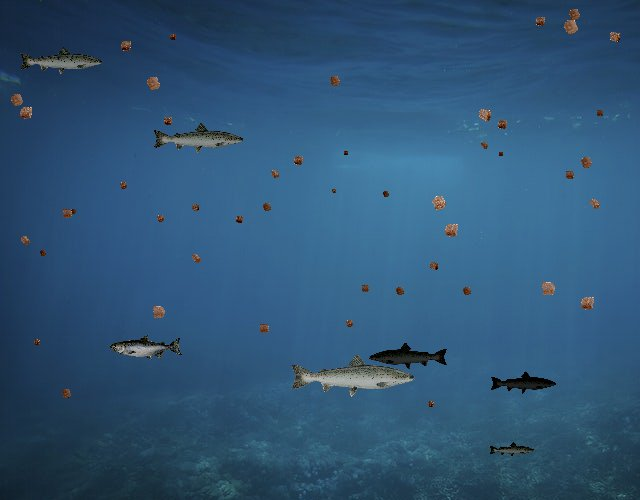Fish: (288, 352, 417, 398), (152, 121, 246, 155), (18, 45, 104, 76), (369, 341, 450, 370), (111, 334, 184, 360), (490, 370, 558, 394), (488, 441, 535, 458)
Pellet: (437, 216, 466, 245), (573, 290, 601, 318), (471, 101, 498, 128), (574, 150, 598, 174), (288, 150, 309, 171), (457, 282, 476, 301), (341, 315, 358, 332), (30, 335, 44, 349)
